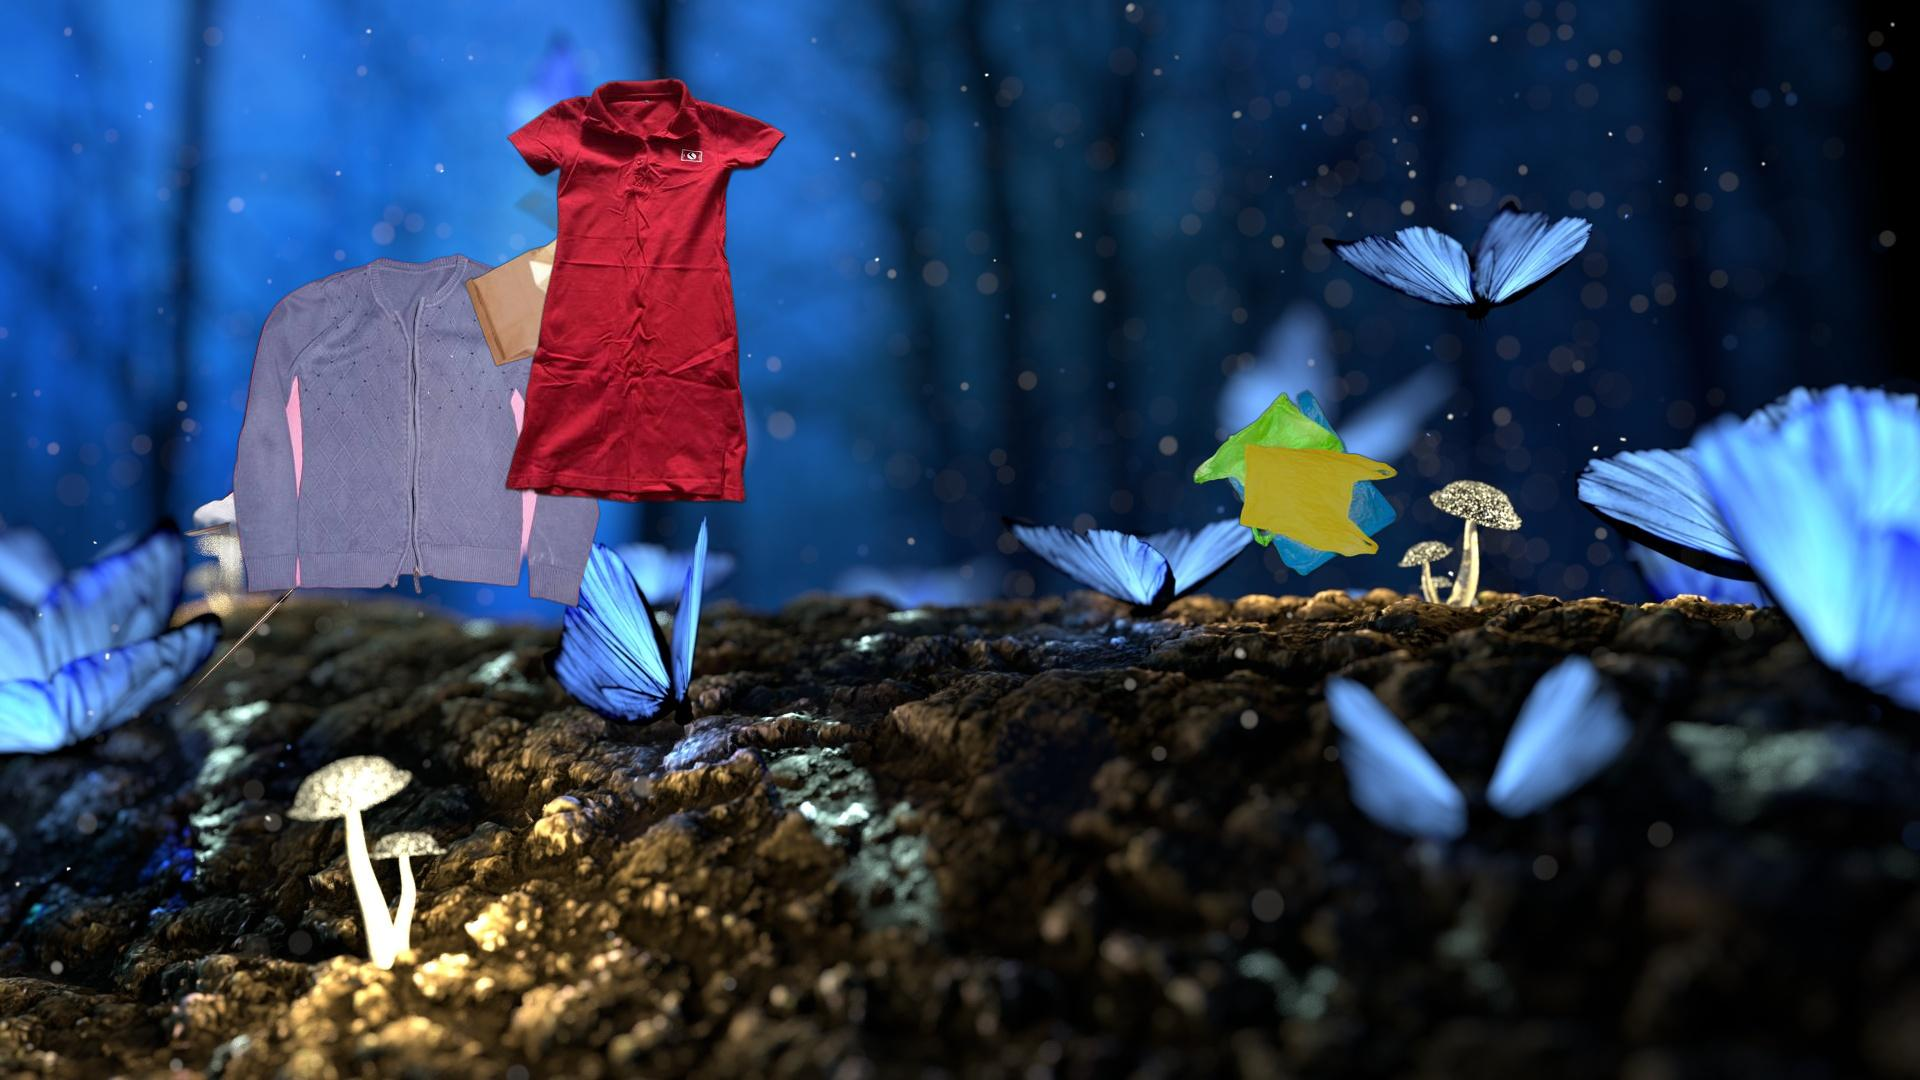clothes: (229, 249, 604, 613), (502, 74, 789, 508)
paper-bag: (455, 127, 680, 369)
plastic-bag: (1189, 386, 1400, 578)
trashbox-cardboard: (175, 483, 359, 705)
